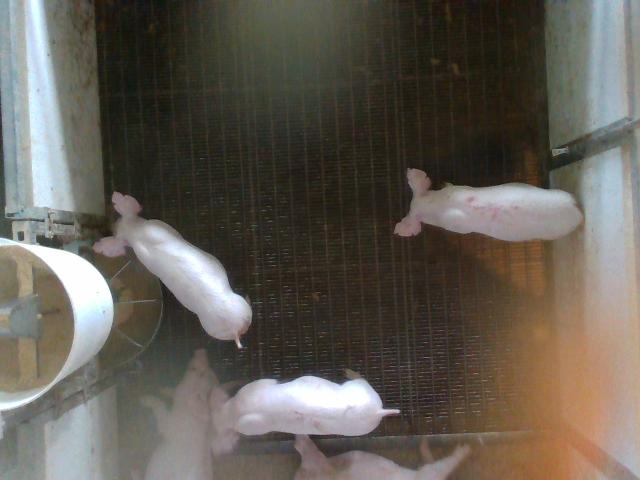pig-5: (395, 169, 582, 241)
